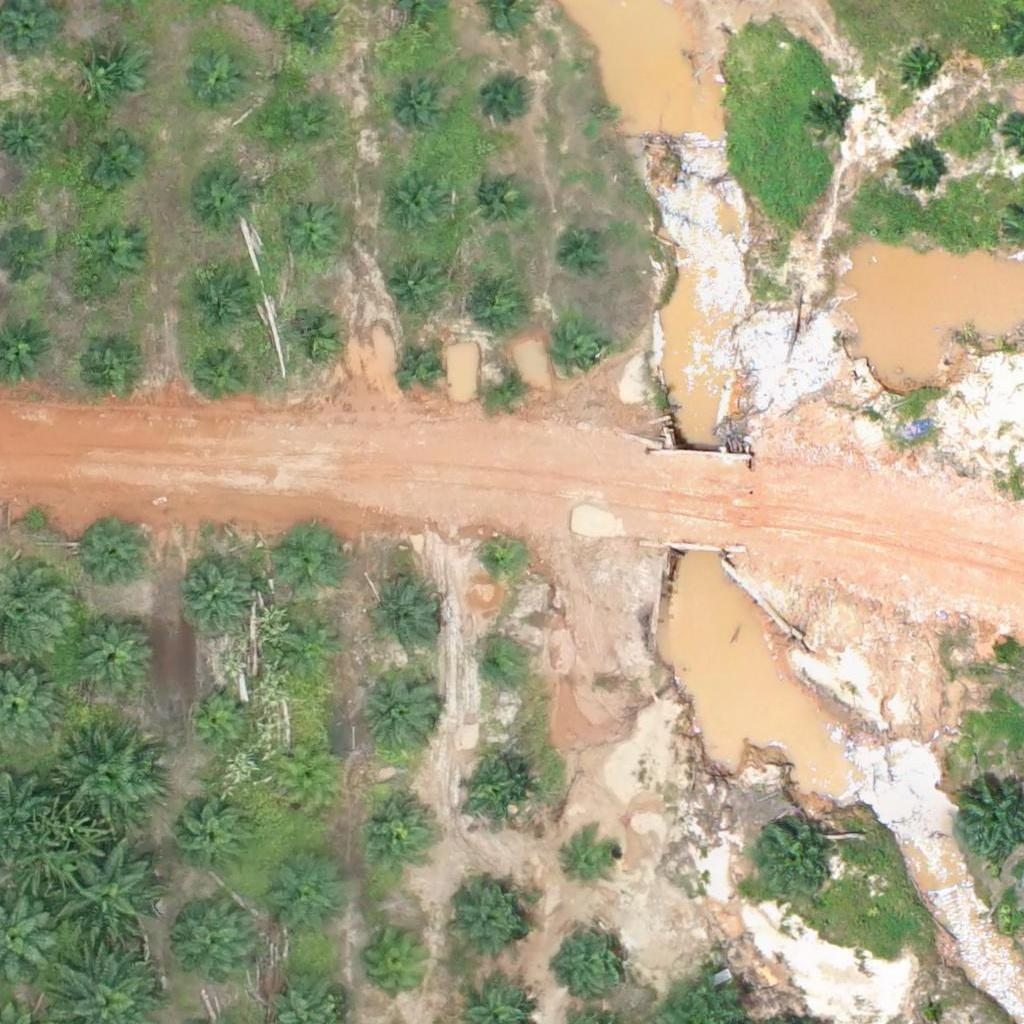Kelapa_Sawit: (62, 851, 162, 952), (56, 728, 156, 828), (448, 881, 536, 969), (172, 900, 259, 989), (750, 820, 837, 908), (175, 553, 262, 641), (70, 610, 157, 698), (365, 575, 440, 651), (75, 520, 150, 596), (456, 756, 531, 832), (558, 919, 633, 995), (365, 672, 440, 748), (173, 799, 248, 874), (270, 863, 345, 938), (357, 790, 432, 865), (363, 923, 438, 998), (269, 102, 332, 165), (384, 78, 447, 141), (382, 175, 445, 238), (79, 220, 142, 283), (77, 327, 140, 390), (189, 344, 252, 407), (278, 525, 341, 588), (469, 271, 532, 334), (383, 256, 446, 319), (274, 747, 337, 810), (80, 134, 142, 197), (191, 49, 253, 112), (193, 266, 255, 329), (190, 170, 252, 233), (284, 621, 346, 684), (279, 208, 341, 271), (284, 306, 346, 369), (469, 166, 531, 229), (563, 828, 625, 891), (86, 47, 148, 110), (183, 687, 245, 749), (396, 341, 446, 392), (482, 362, 532, 413), (485, 77, 535, 127), (894, 145, 944, 195), (553, 328, 603, 378), (563, 223, 613, 273), (475, 536, 525, 586), (471, 643, 521, 693), (897, 41, 947, 91), (806, 97, 856, 147), (289, 12, 339, 62)
